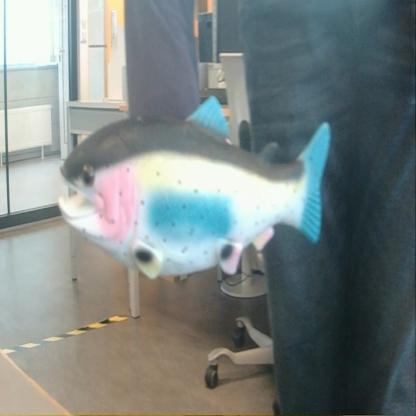rubberfish: (52, 86, 336, 283)
